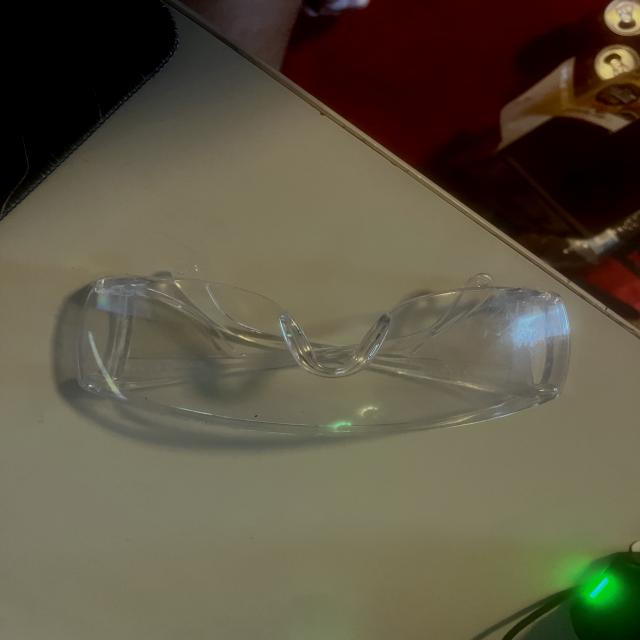Safety Glasses: (55, 258, 583, 448)
